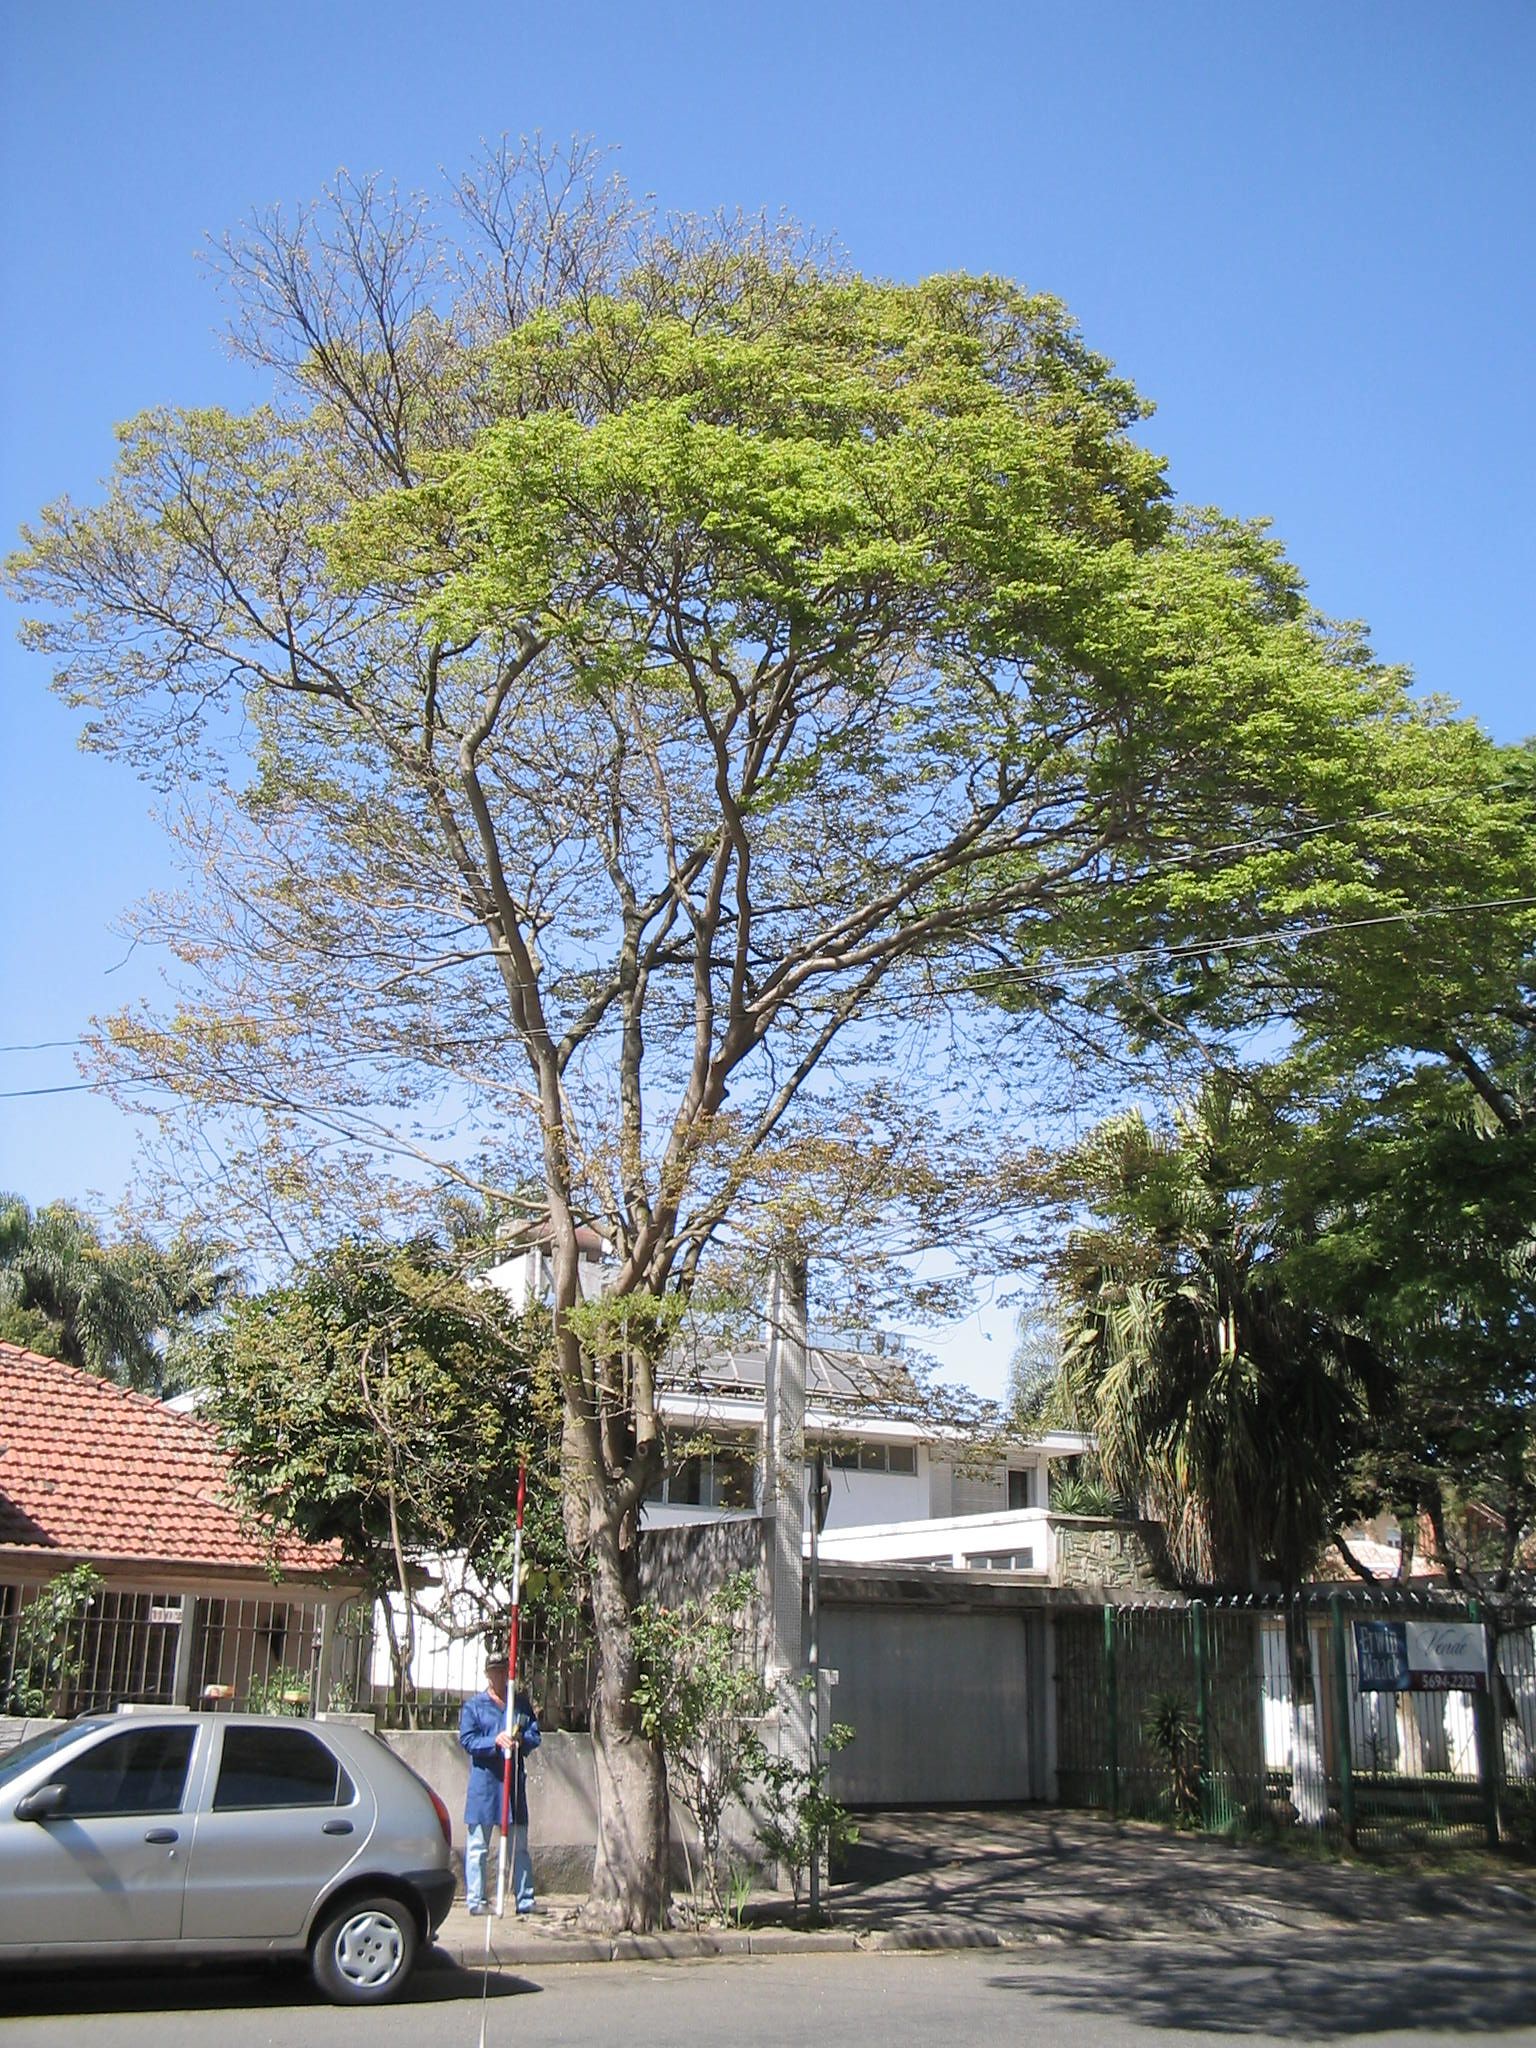crown: (32, 132, 1520, 1311)
stem: (544, 1490, 765, 1929)
stick: (461, 1463, 558, 1909)
tree: (23, 126, 1521, 1934)
